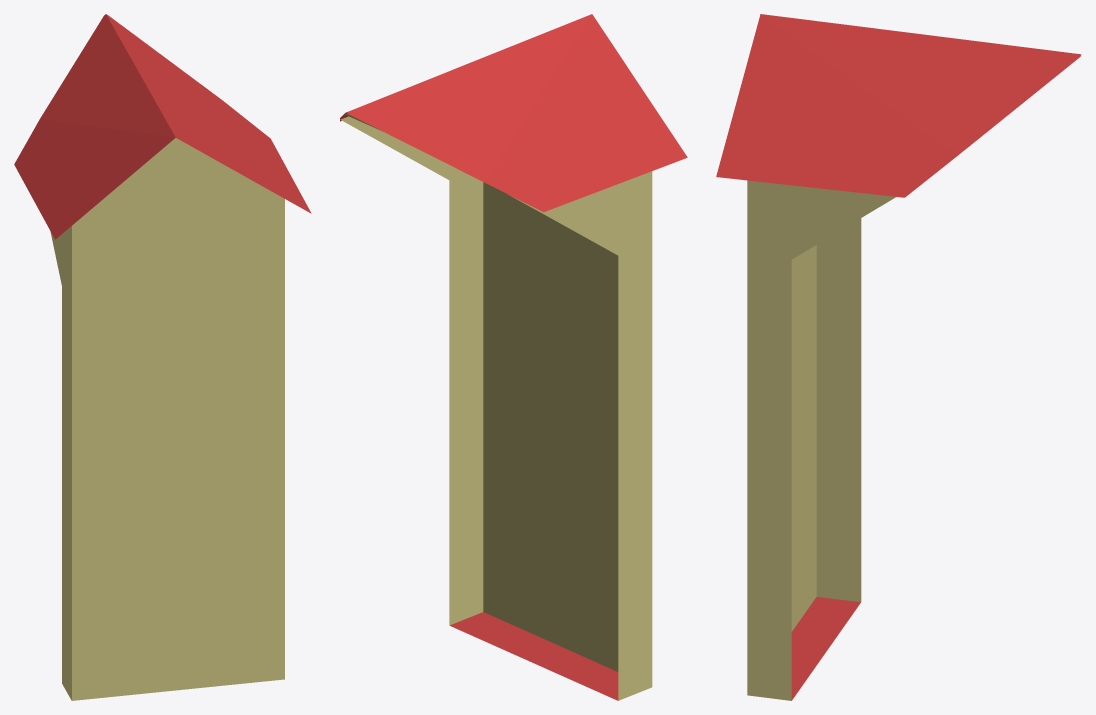
3 views of the same model, side by side, from view 1: azimuth 30°, elevation 25°; view 2: azimuth 150°, elevation 25°; view 3: azimuth 270°, elevation 25° (orthographic). The views are drawn at different scales.
Bounding box in the file's own units: 6.76 × 7.33 × 13.83.
